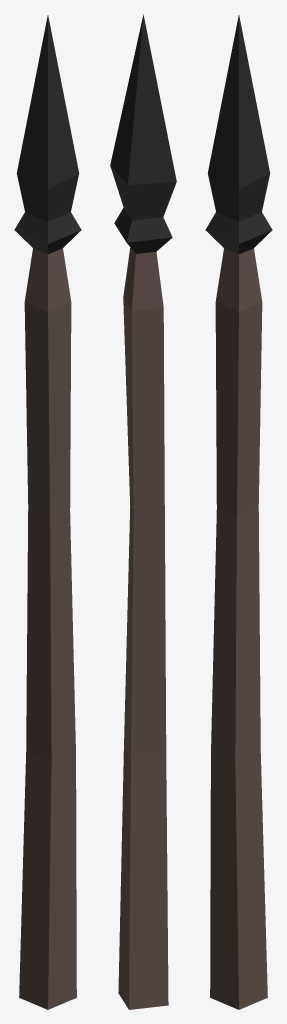
Rendered from spear_02.fbx.
3 renders of one model, left to right at view 1: azimuth 90°, elevation 25°; view 2: azimuth 150°, elevation 25°; view 3: azimuth 270°, elevation 25°, orthographic.
Parts seen in each view (by area): view 1: spear; view 2: spear; view 3: spear.
Boxes of the visible parts, x1,y1,x2,y2 form: spear: [14, 15, 81, 1009]; spear: [110, 14, 176, 1009]; spear: [205, 15, 272, 1009].
Bounding box in the file's own units: 12.1 × 171 × 10.6.
